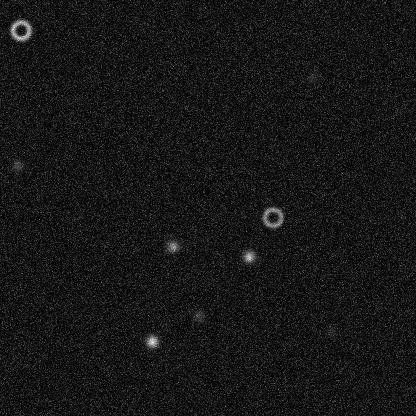Ring: (260, 205, 284, 229), (8, 18, 32, 42)
Spot: (9, 157, 25, 173), (323, 322, 339, 338), (144, 333, 160, 349), (240, 248, 256, 264), (164, 238, 180, 254), (190, 307, 206, 323), (305, 68, 321, 84)
